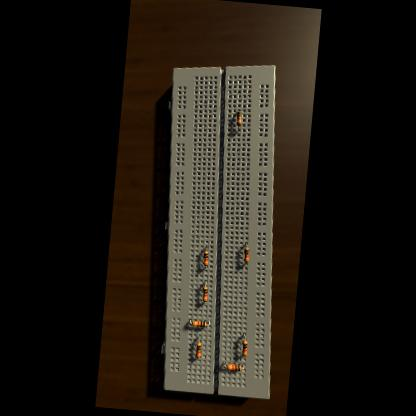breadboard: (143, 57, 298, 400)
resistor: (227, 364, 241, 372), (196, 341, 202, 358), (241, 340, 247, 356), (236, 111, 242, 126), (243, 248, 249, 262), (203, 251, 209, 265), (192, 320, 206, 326), (202, 286, 207, 302)
wire: (242, 333, 246, 340), (206, 320, 210, 324), (198, 335, 200, 342), (223, 363, 226, 367), (242, 364, 244, 369), (245, 243, 247, 248), (190, 320, 192, 324), (206, 246, 207, 252), (237, 126, 238, 131), (245, 262, 246, 264), (238, 110, 239, 112), (204, 301, 206, 302), (244, 356, 245, 357), (206, 266, 206, 268)
